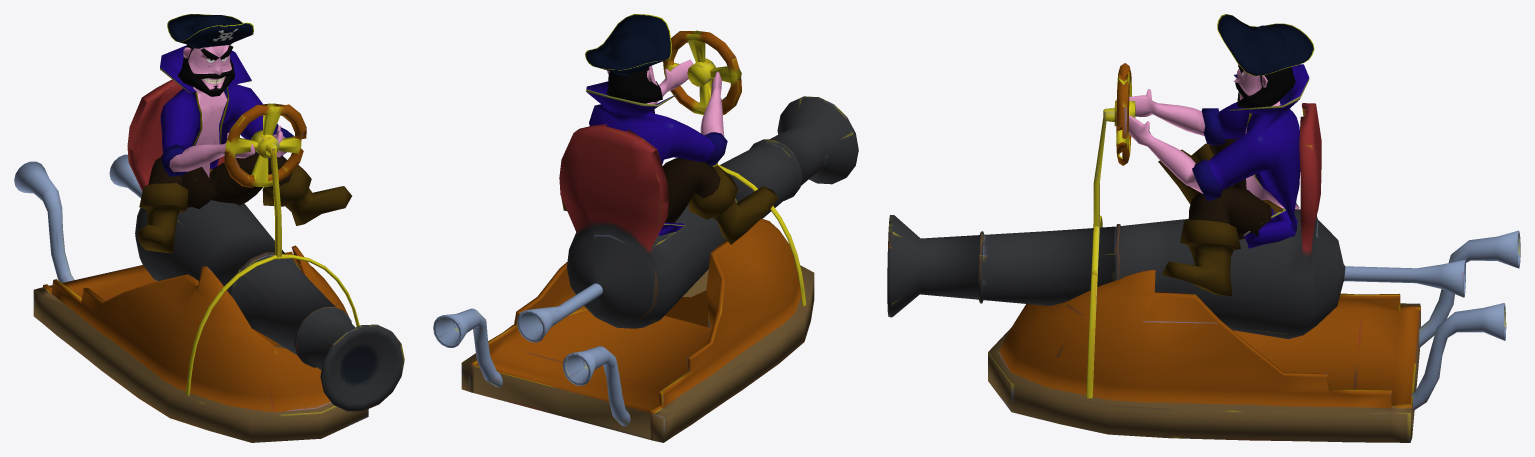
The model's file is VacilePirata_000541.obj.
3 views of the same model, side by side, from view 1: azimuth 30°, elevation 25°; view 2: azimuth 150°, elevation 25°; view 3: azimuth 270°, elevation 25° (orthographic). The views are drawn at different scales.
Parts seen in each view (by area): view 1: carro_pirata_carro_pirata.001, Pirata_PirataH; view 2: carro_pirata_carro_pirata.001, Pirata_PirataH; view 3: carro_pirata_carro_pirata.001, Pirata_PirataH.
Boxes of the visible parts, x1,y1,x2,y2 form: carro_pirata_carro_pirata.001: [14, 79, 404, 442]; Pirata_PirataH: [137, 14, 351, 253]; carro_pirata_carro_pirata.001: [433, 30, 858, 442]; Pirata_PirataH: [561, 14, 778, 244]; carro_pirata_carro_pirata.001: [887, 63, 1520, 442]; Pirata_PirataH: [1129, 14, 1314, 296].
Size of the model in its own units: 5.13 by 7.73 by 12.1.
